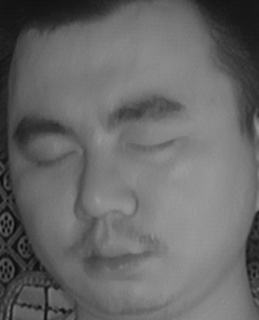blink: (127, 126, 178, 163), (28, 142, 78, 177)
mouth: (73, 229, 160, 283)
